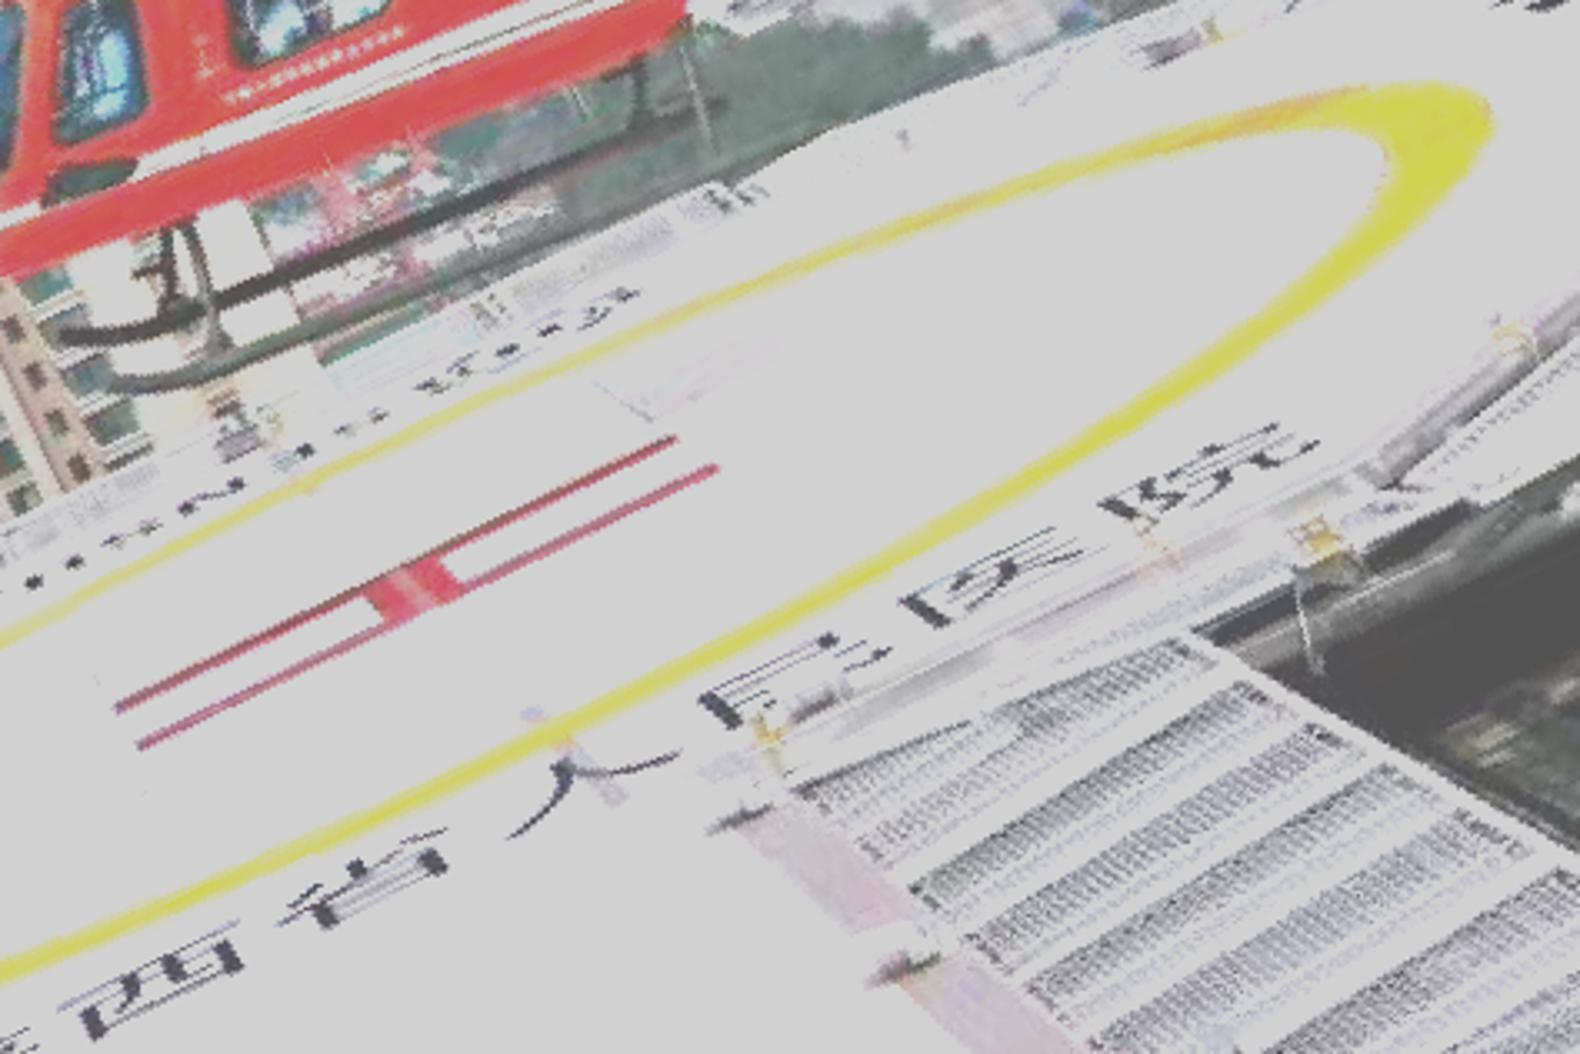Apron: (1, 71, 1498, 994)
